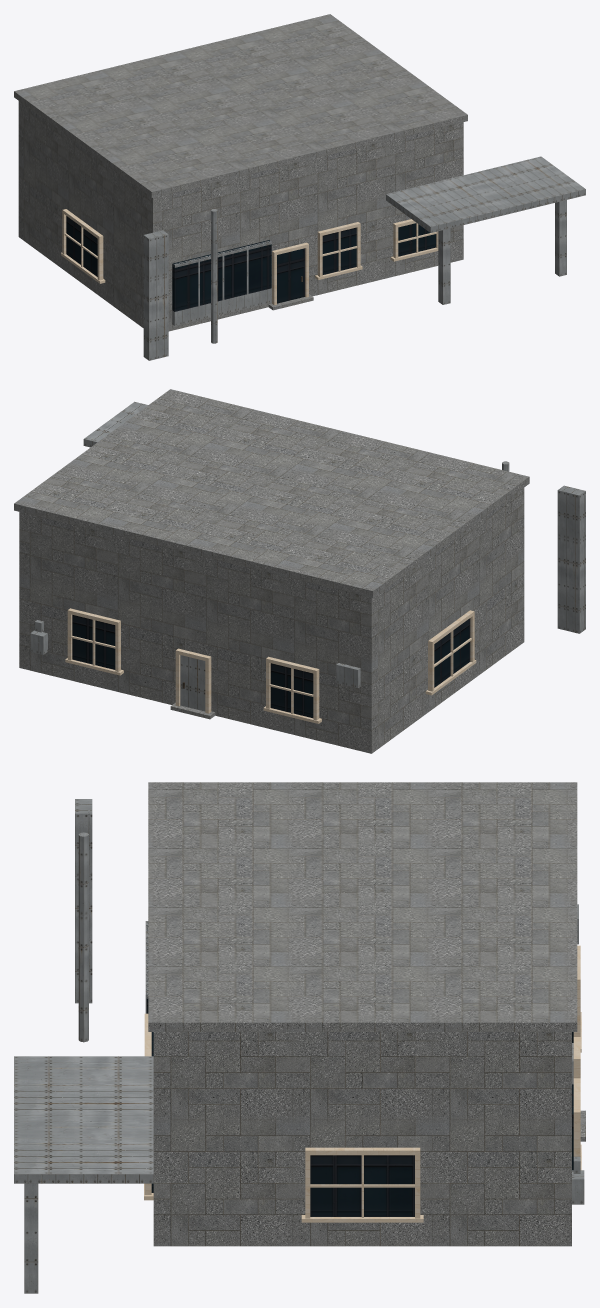
File: neighborhood-bank-branch_lod0.gltf
3 renders of one model, top to bottom at view 1: azimuth 30°, elevation 25°; view 2: azimuth 150°, elevation 25°; view 3: azimuth 270°, elevation 25°, orthographic. The views are drawn at different scales.
Parts seen in each view (by area): view 1: neighborhood-bank-branch__parapet, neighborhood-bank-branch_main, neighborhood-bank-branch_fen_07-glass-curtain-blue_1_t, neighborhood-bank-branch__drive_canopy, neighborhood-bank-branch_fen_04-limestone_2, neighborhood-bank-branch__sign_pylon, neighborhood-bank-branch_fen_14-steel-panel_0, neighborhood-bank-branch__drive_post_a, neighborhood-bank-branch__flag, neighborhood-bank-branch__drive_post_b; view 2: neighborhood-bank-branch_main, neighborhood-bank-branch__parapet, neighborhood-bank-branch_fen_04-limestone_2, neighborhood-bank-branch_fen_07-glass-curtain-blue_1_t, neighborhood-bank-branch__sign_pylon, neighborhood-bank-branch_fen_14-steel-panel_0, neighborhood-bank-branch__drive_canopy; view 3: neighborhood-bank-branch__parapet, neighborhood-bank-branch_main, neighborhood-bank-branch__drive_canopy, neighborhood-bank-branch_fen_07-glass-curtain-blue_1_t, neighborhood-bank-branch_fen_04-limestone_2, neighborhood-bank-branch__flag, neighborhood-bank-branch__sign_pylon, neighborhood-bank-branch__drive_post_b, neighborhood-bank-branch_fen_14-steel-panel_0.
Boxes of the visible parts, x1,y1,x2,y2 form: neighborhood-bank-branch__parapet: (14, 14, 467, 197); neighborhood-bank-branch_main: (18, 101, 463, 331); neighborhood-bank-branch_fen_07-glass-curtain-blue_1_t: (66, 216, 435, 311); neighborhood-bank-branch__drive_canopy: (386, 156, 585, 232); neighborhood-bank-branch_fen_04-limestone_2: (61, 209, 438, 305); neighborhood-bank-branch__sign_pylon: (143, 230, 168, 360); neighborhood-bank-branch_fen_14-steel-panel_0: (172, 240, 271, 325); neighborhood-bank-branch__drive_post_a: (438, 228, 450, 304); neighborhood-bank-branch__flag: (211, 209, 217, 343); neighborhood-bank-branch__drive_post_b: (555, 200, 566, 276); neighborhood-bank-branch_main: (19, 488, 524, 753); neighborhood-bank-branch__parapet: (14, 389, 529, 597); neighborhood-bank-branch_fen_04-limestone_2: (65, 608, 476, 723); neighborhood-bank-branch_fen_07-glass-curtain-blue_1_t: (72, 615, 470, 718); neighborhood-bank-branch__sign_pylon: (557, 485, 585, 633); neighborhood-bank-branch_fen_14-steel-panel_0: (30, 620, 360, 711); neighborhood-bank-branch__drive_canopy: (83, 401, 148, 447); neighborhood-bank-branch__parapet: (148, 782, 577, 1031); neighborhood-bank-branch_main: (153, 1032, 571, 1246); neighborhood-bank-branch__drive_canopy: (14, 1056, 153, 1183); neighborhood-bank-branch_fen_07-glass-curtain-blue_1_t: (146, 923, 573, 1216); neighborhood-bank-branch_fen_04-limestone_2: (144, 945, 581, 1222); neighborhood-bank-branch__flag: (78, 832, 88, 1042); neighborhood-bank-branch__sign_pylon: (75, 799, 92, 1003); neighborhood-bank-branch__drive_post_b: (24, 1183, 38, 1293); neighborhood-bank-branch_fen_14-steel-panel_0: (145, 904, 584, 1204).
Bounding box in the file's own units: 21.5 × 7.15 × 16.4.
